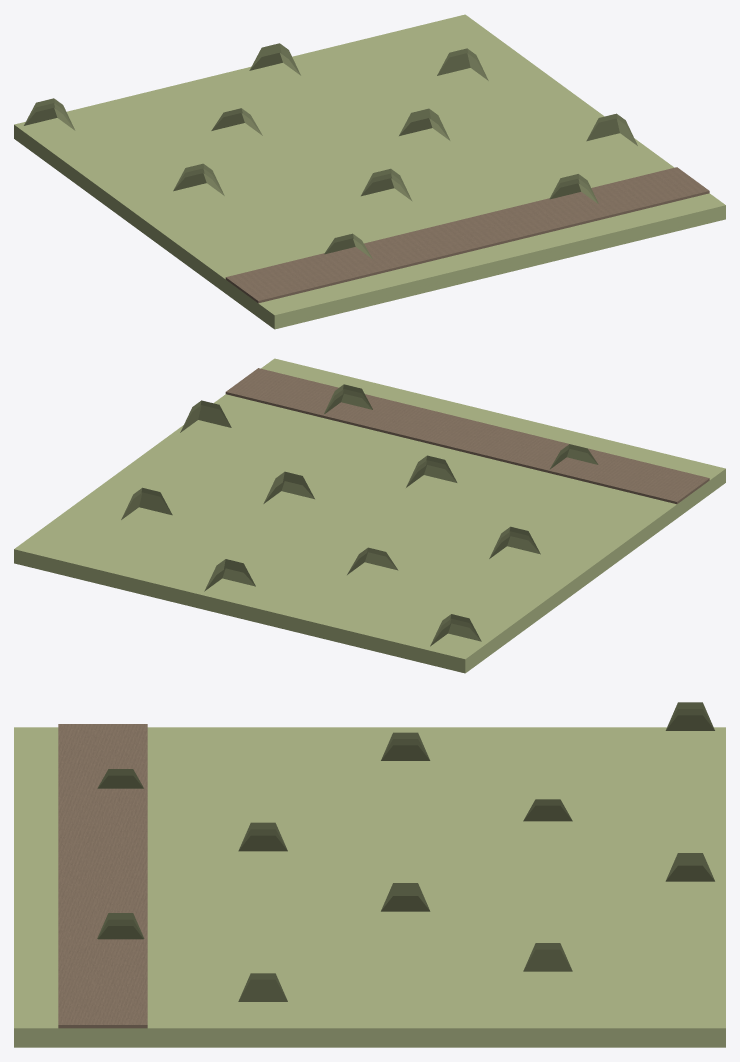
File: headland-strip.glb
3 renders of one model, top to bottom at view 1: azimuth 30°, elevation 25°; view 2: azimuth 150°, elevation 25°; view 3: azimuth 270°, elevation 25°, orthographic. The views are drawn at different scales.
Visible parts, largest first — view 1: headland-strip-grass, headland-strip-soil; view 2: headland-strip-grass, headland-strip-soil; view 3: headland-strip-grass, headland-strip-soil.
Part boxes in pixels (x1,y1,x2,y2): headland-strip-grass: (14, 14, 725, 329); headland-strip-soil: (225, 167, 709, 303); headland-strip-grass: (14, 358, 725, 673); headland-strip-soil: (225, 368, 709, 504); headland-strip-grass: (14, 702, 725, 1047); headland-strip-soil: (58, 724, 147, 1028).
Size of the model in its own units: 4 by 0.3301 by 4.
2 materials, 1 textured.
